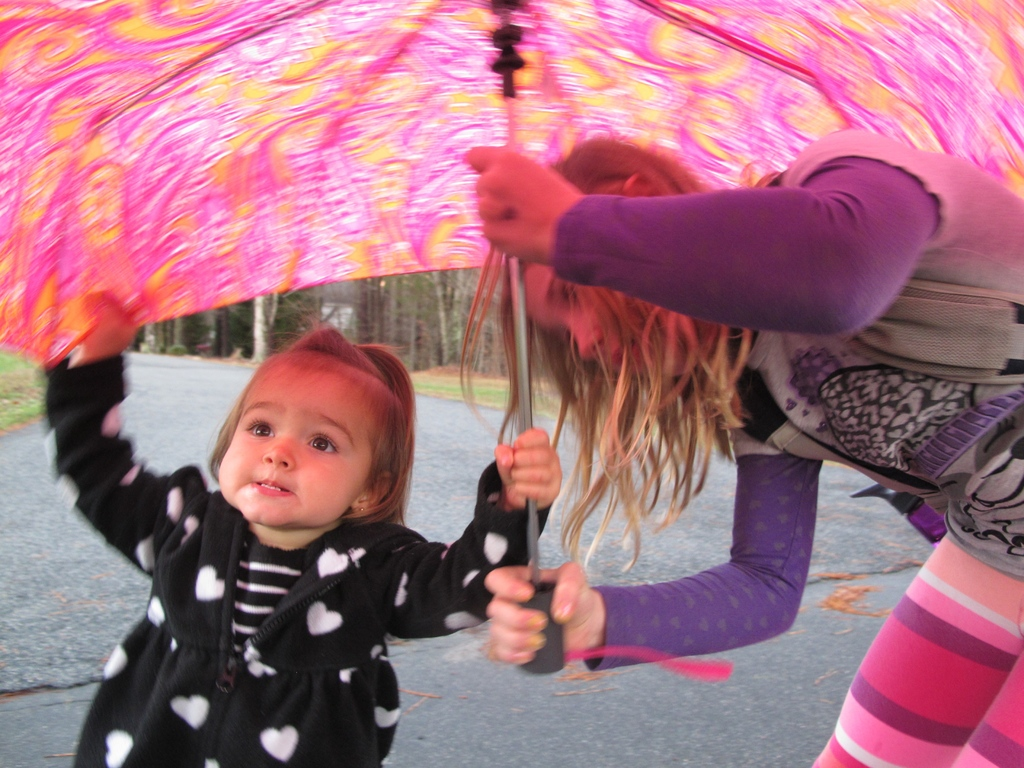Human-face: (216, 356, 376, 529), (524, 262, 625, 371)
